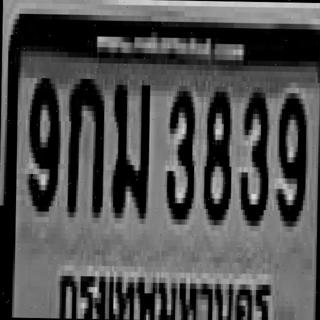A01: (65, 73, 102, 212)
A33: (108, 74, 148, 213)
N03: (164, 86, 193, 219), (239, 87, 268, 220)
N08: (202, 86, 230, 220)
N09: (273, 88, 305, 221), (26, 73, 57, 206)
P04: (54, 260, 276, 320)
